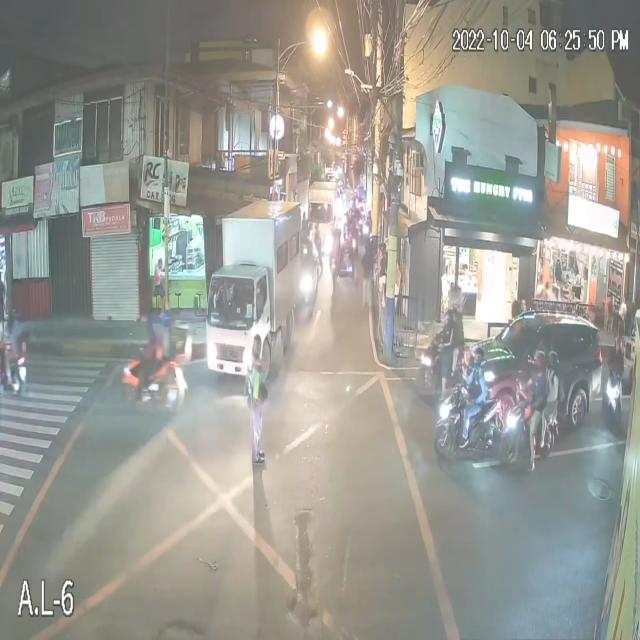Full-Faced: (459, 346, 476, 376), (530, 348, 547, 376), (471, 344, 486, 372)
